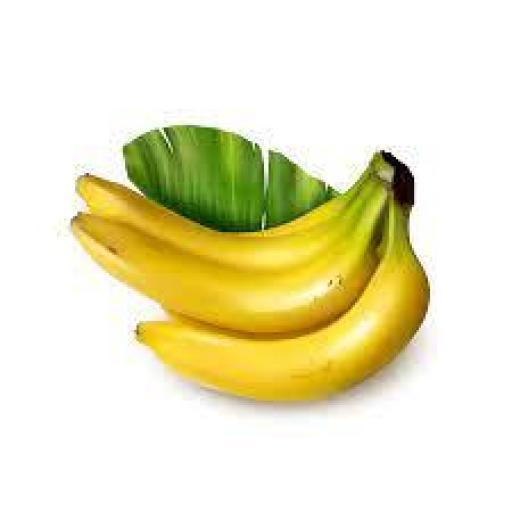banana: (137, 201, 430, 400), (73, 180, 389, 332), (78, 153, 389, 270)
